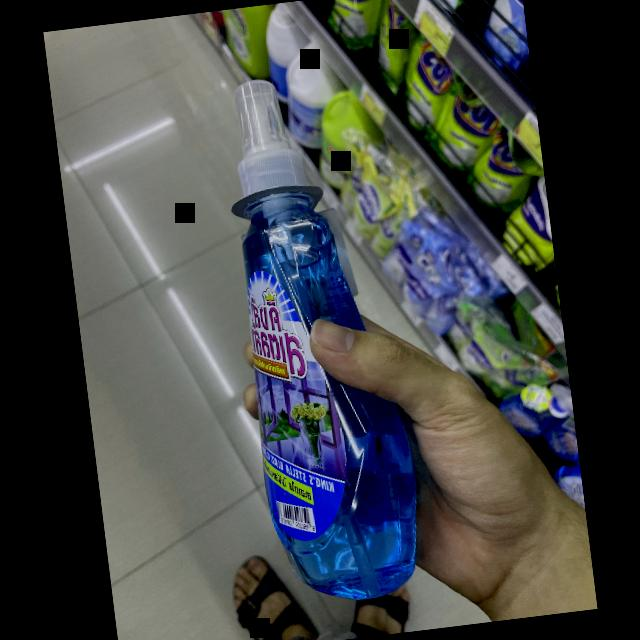chemical_plastic_bottle: (206, 59, 442, 614)
